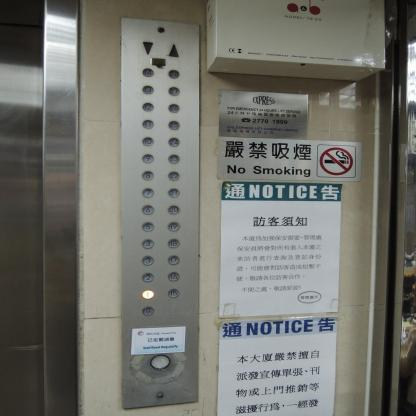1: (142, 289, 154, 299)
10: (142, 136, 154, 146)
11: (142, 119, 154, 129)
12: (142, 102, 154, 112)
13: (142, 84, 154, 95)
14: (142, 67, 154, 78)
15: (167, 288, 180, 298)
16: (167, 272, 179, 281)
17: (167, 255, 179, 265)
18: (168, 239, 180, 248)
19: (167, 222, 180, 232)
2: (142, 272, 154, 282)
20: (167, 205, 179, 214)
21: (168, 188, 180, 197)
22: (167, 171, 180, 181)
23: (167, 154, 180, 164)
24: (167, 137, 180, 147)
25: (168, 120, 180, 130)
26: (168, 103, 180, 113)
27: (168, 86, 180, 96)
28: (168, 69, 180, 79)
3: (142, 255, 154, 265)
4: (142, 239, 154, 248)
5: (142, 222, 154, 231)
6: (141, 204, 153, 214)
7: (142, 188, 154, 197)
8: (142, 171, 154, 180)
9: (142, 153, 154, 163)
G: (142, 306, 154, 316)
empty: (149, 354, 171, 370)
